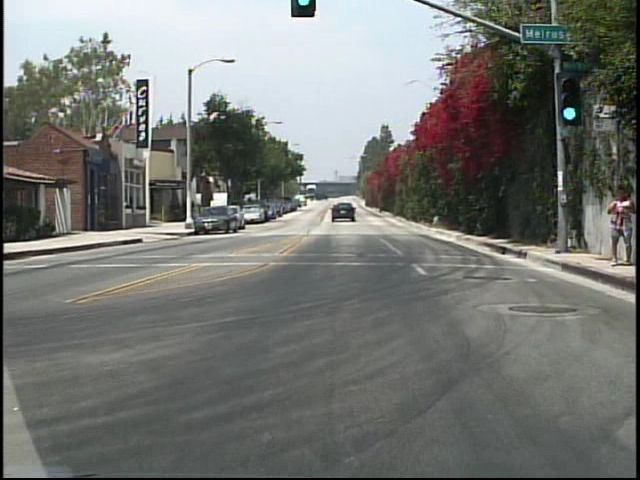person: (606, 185, 635, 268)
